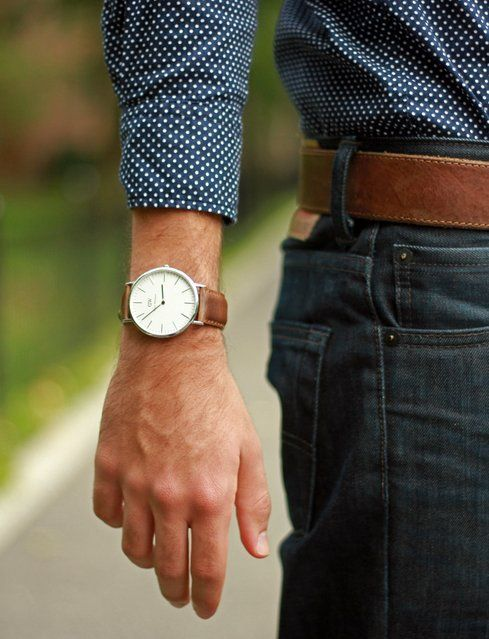clock: (127, 269, 199, 337)
